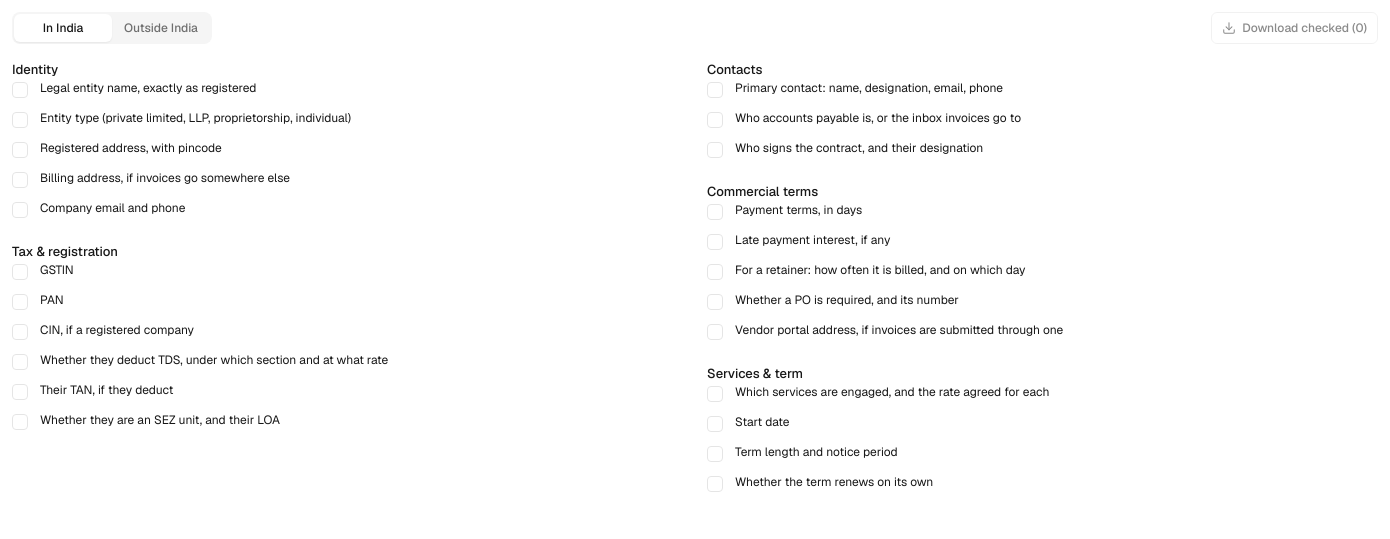
Test: ClientRequestChecklist › asks a foreign client for its own registrations, not for a GSTIN
The width and height of the screenshot is (1390, 539).
Expected: the checkbox named "GSTIN" next to "GSTIN" is shown, [12, 264, 28, 280]
Expected: the checkbox labelled "W-8BEN-E" is not shown
Click the tab "Outside India".
click(161, 28)  # box [112, 14, 210, 42]
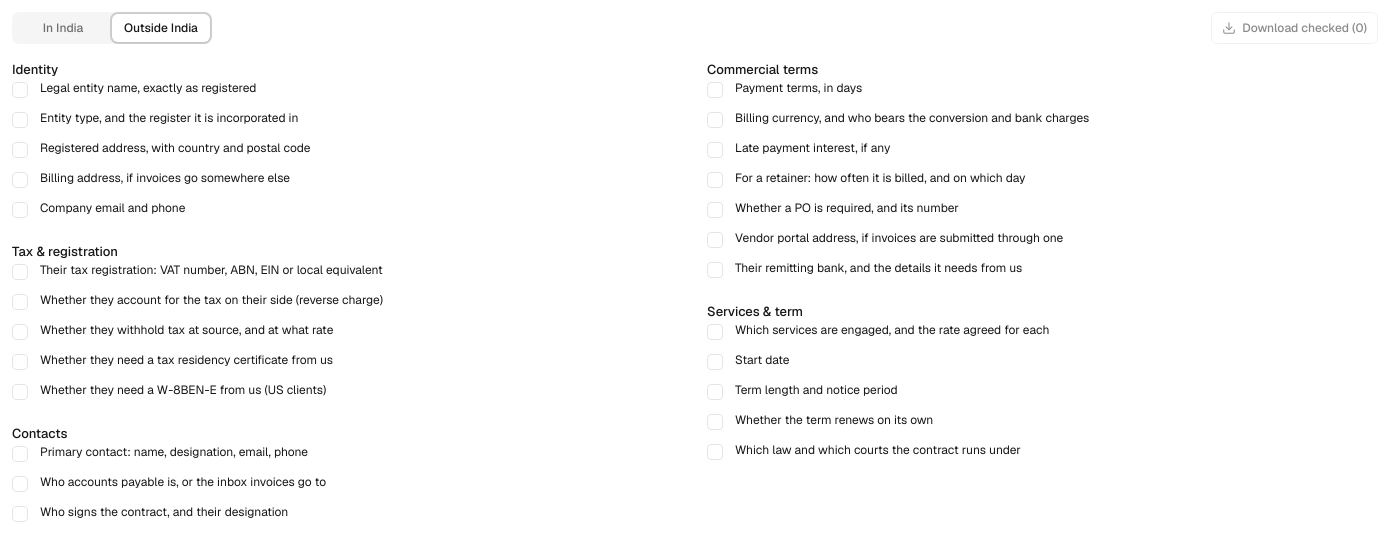
Expected: the 12th checkbox named "VAT number, ABN, EIN" is shown, [12, 264, 28, 280]
Expected: the checkbox labelled "GSTIN" is gone
